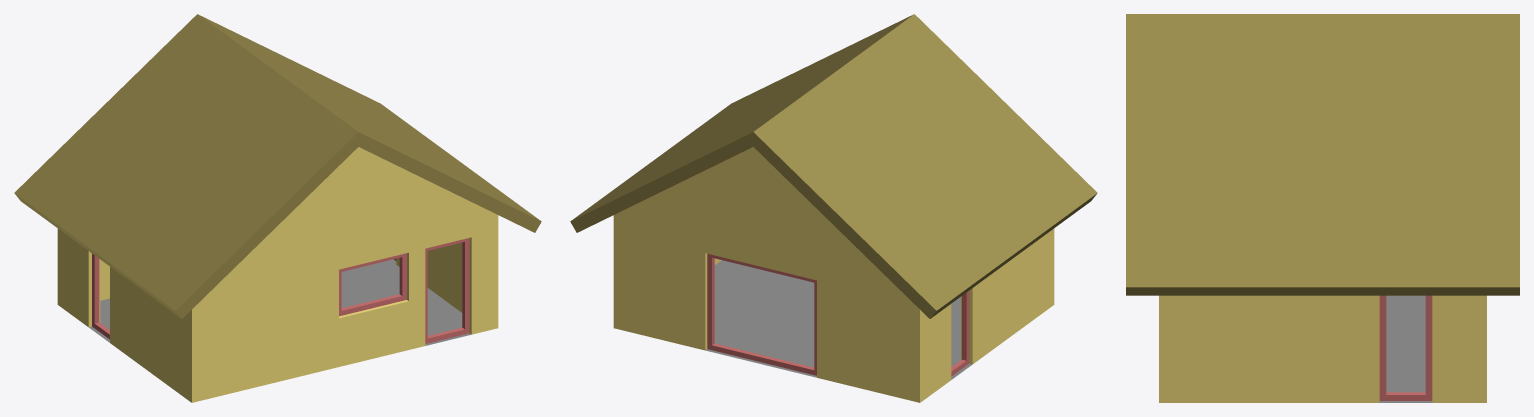
File: result.glb
3 views of the same model, side by side, from view 1: azimuth 30°, elevation 25°; view 2: azimuth 150°, elevation 25°; view 3: azimuth 270°, elevation 25° (orthographic). The views are drawn at different scales.
Parts seen in each view (by area): view 1: 1b59cc4a-b6c5-43dc-8f6d-bd13085e3f80__undefined (×2), ce845836-b9e5-4f62-a4d5-278ca4e1d740__undefined, 31e0bd99-ca14-40f2-9a3a-9bff44cbcba1__Plane_6, da51b8bf-e5ad-4d5e-9623-262c52227d0d__Box, da926339-cf30-47f7-b776-8755ec974d61__Box_3, 8ea538df-bf66-48e3-b1ec-fc9948936997__Box_12; view 2: 1b59cc4a-b6c5-43dc-8f6d-bd13085e3f80__undefined (×2), ce845836-b9e5-4f62-a4d5-278ca4e1d740__undefined, 31e0bd99-ca14-40f2-9a3a-9bff44cbcba1__Plane_6, d48bd5a1-6649-4019-8f57-0e7d22d92a46__Box_9, 8ea538df-bf66-48e3-b1ec-fc9948936997__Box_12; view 3: 1b59cc4a-b6c5-43dc-8f6d-bd13085e3f80__undefined, ce845836-b9e5-4f62-a4d5-278ca4e1d740__undefined, 31e0bd99-ca14-40f2-9a3a-9bff44cbcba1__Plane_6, 9609e9e8-71a6-4348-9e3c-aabf95b12403__Box_15.
Boxes of the visible parts, x1=… form: 1b59cc4a-b6c5-43dc-8f6d-bd13085e3f80__undefined (×2): x1=14, y1=14, x2=541, y2=318; ce845836-b9e5-4f62-a4d5-278ca4e1d740__undefined: x1=57, y1=147, x2=498, y2=402; 31e0bd99-ca14-40f2-9a3a-9bff44cbcba1__Plane_6: x1=89, y1=259, x2=471, y2=345; da51b8bf-e5ad-4d5e-9623-262c52227d0d__Box: x1=425, y1=238, x2=469, y2=343; da926339-cf30-47f7-b776-8755ec974d61__Box_3: x1=339, y1=253, x2=406, y2=316; 8ea538df-bf66-48e3-b1ec-fc9948936997__Box_12: x1=92, y1=253, x2=109, y2=339; 1b59cc4a-b6c5-43dc-8f6d-bd13085e3f80__undefined (×2): x1=570, y1=14, x2=1097, y2=318; ce845836-b9e5-4f62-a4d5-278ca4e1d740__undefined: x1=613, y1=147, x2=1054, y2=402; 31e0bd99-ca14-40f2-9a3a-9bff44cbcba1__Plane_6: x1=705, y1=260, x2=972, y2=379; d48bd5a1-6649-4019-8f57-0e7d22d92a46__Box_9: x1=707, y1=253, x2=816, y2=375; 8ea538df-bf66-48e3-b1ec-fc9948936997__Box_12: x1=951, y1=291, x2=969, y2=376; 1b59cc4a-b6c5-43dc-8f6d-bd13085e3f80__undefined: x1=1126, y1=14, x2=1519, y2=295; ce845836-b9e5-4f62-a4d5-278ca4e1d740__undefined: x1=1159, y1=295, x2=1486, y2=402; 31e0bd99-ca14-40f2-9a3a-9bff44cbcba1__Plane_6: x1=1379, y1=295, x2=1432, y2=402; 9609e9e8-71a6-4348-9e3c-aabf95b12403__Box_15: x1=1379, y1=295, x2=1432, y2=400.
Size of the model in its own units: 788 by 500 by 600.
